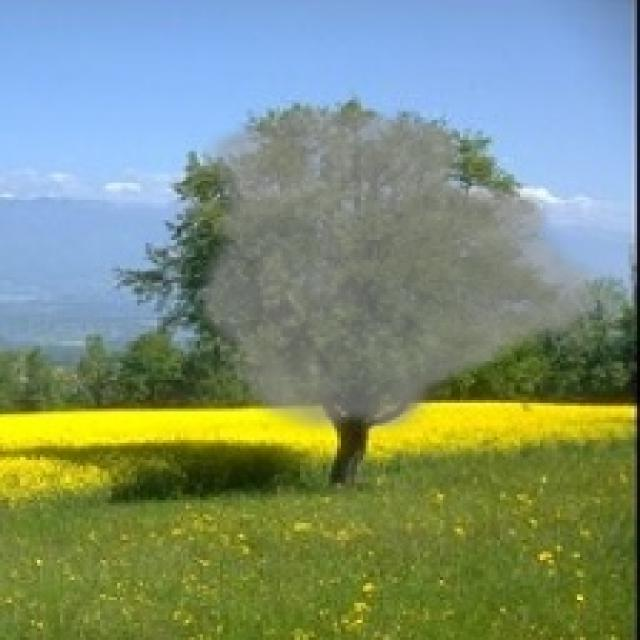smoke: (192, 100, 612, 443)
